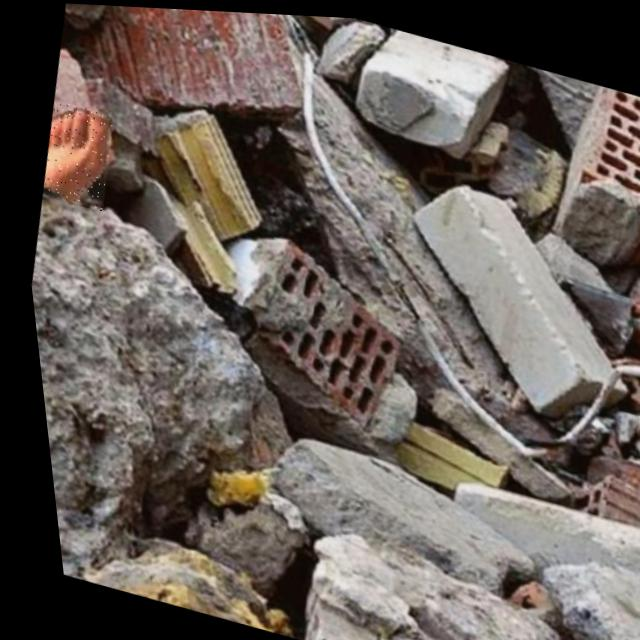Person in Rubble: (29, 98, 120, 211)
